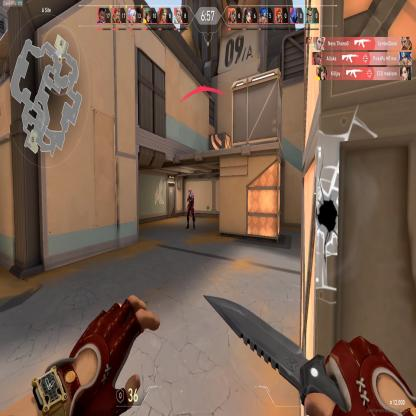enemy: (185, 188, 196, 230)
